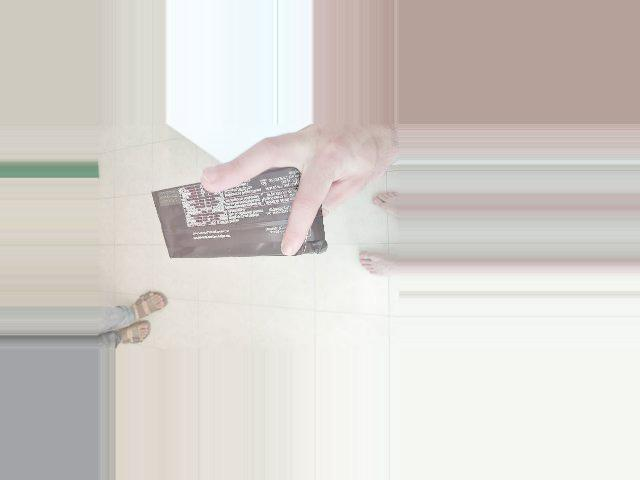chocolate: (181, 173, 289, 355)
